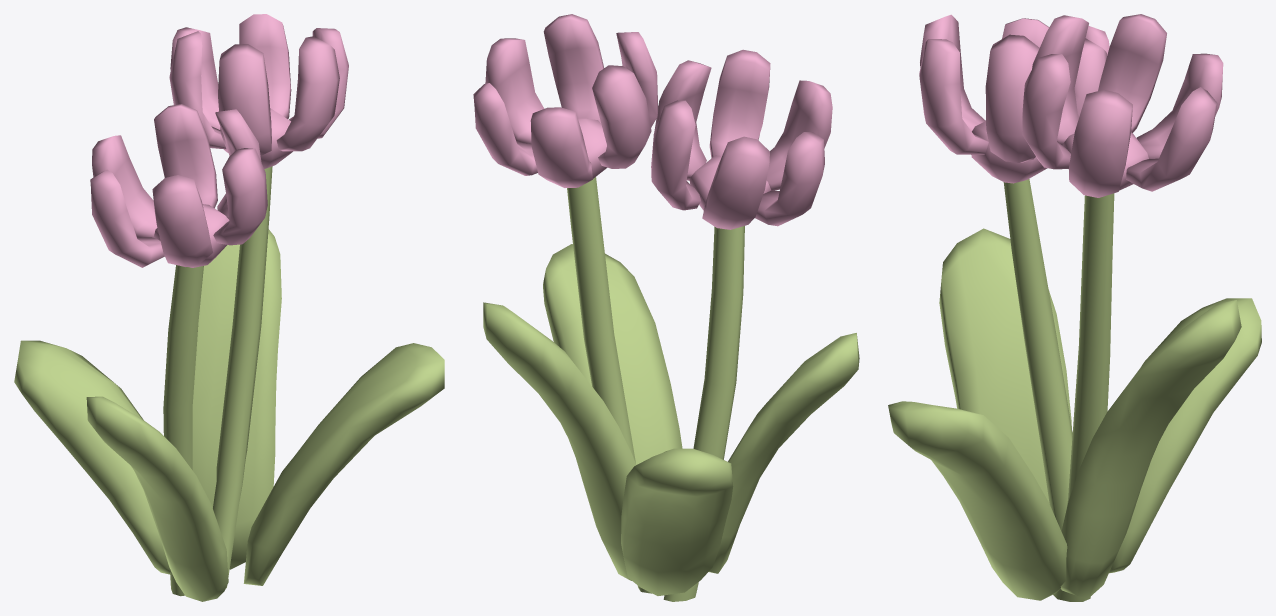
The model's file is Flower_08.fbx.
3 views of the same model, side by side, from view 1: azimuth 30°, elevation 25°; view 2: azimuth 150°, elevation 25°; view 3: azimuth 270°, elevation 25° (orthographic). The views are drawn at different scales.
Visible parts, largest first — view 1: polySurface974; view 2: polySurface974; view 3: polySurface974.
Part boxes in pixels (bbox=[...]): polySurface974: bbox=[14, 14, 444, 601]; polySurface974: bbox=[473, 14, 859, 601]; polySurface974: bbox=[888, 14, 1261, 601].
Size of the model in its own units: 34.95 by 55.66 by 31.82.
